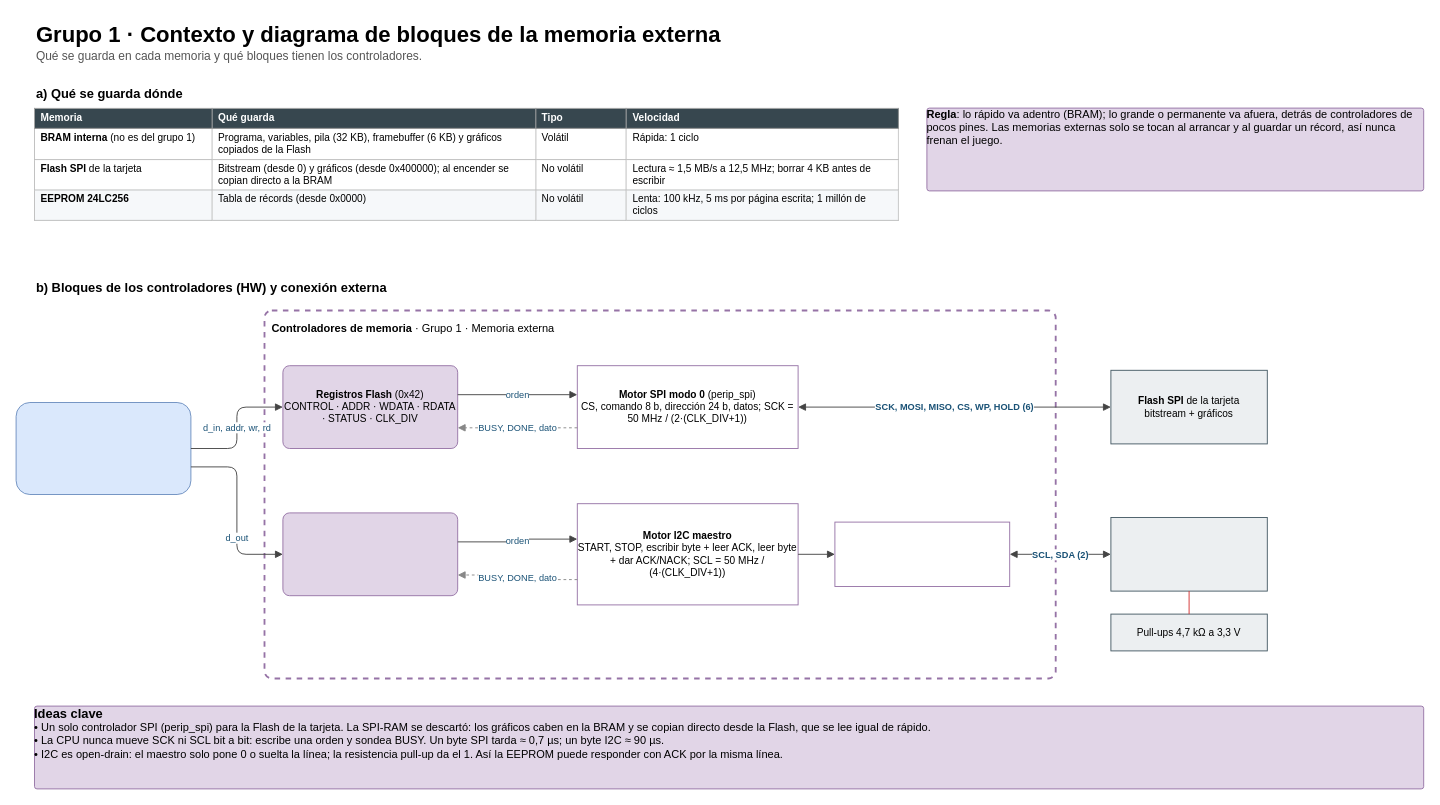
Some shapes in this 1440 by 805 pixel diagram are drawn without their labels. The shapes that lost their labels are listed below. From the top down, each one's centre as x and y in pixels, then its label:
At (103,448): "FemtoRV32 + bus y decodificador (G6) cs: 0x42, 0x46".
At (370,554): "Registros I2C (0x46) CONTROL · TX_DATA · RX_DATA · STATUS · CLK_DIV".
At (922,553): "Salidas open-drain SDA y SCL: 0 o alta impedancia".
At (1188,554): "EEPROM 24LC256 32 KB, dirección 0x50".
